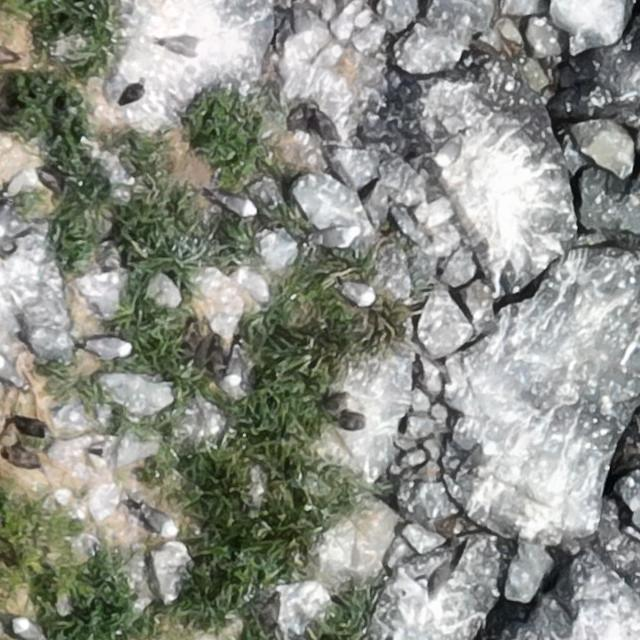umineko: (459, 439, 497, 481), (311, 228, 363, 246), (143, 508, 178, 534), (87, 336, 128, 356), (435, 134, 461, 164), (224, 348, 243, 388), (341, 284, 373, 306), (221, 196, 256, 215), (165, 38, 203, 55), (14, 619, 43, 639), (337, 414, 368, 431)
